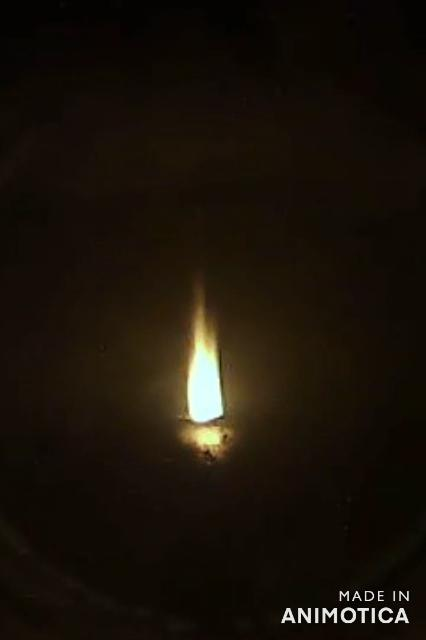burner flame: (183, 277, 229, 428)
